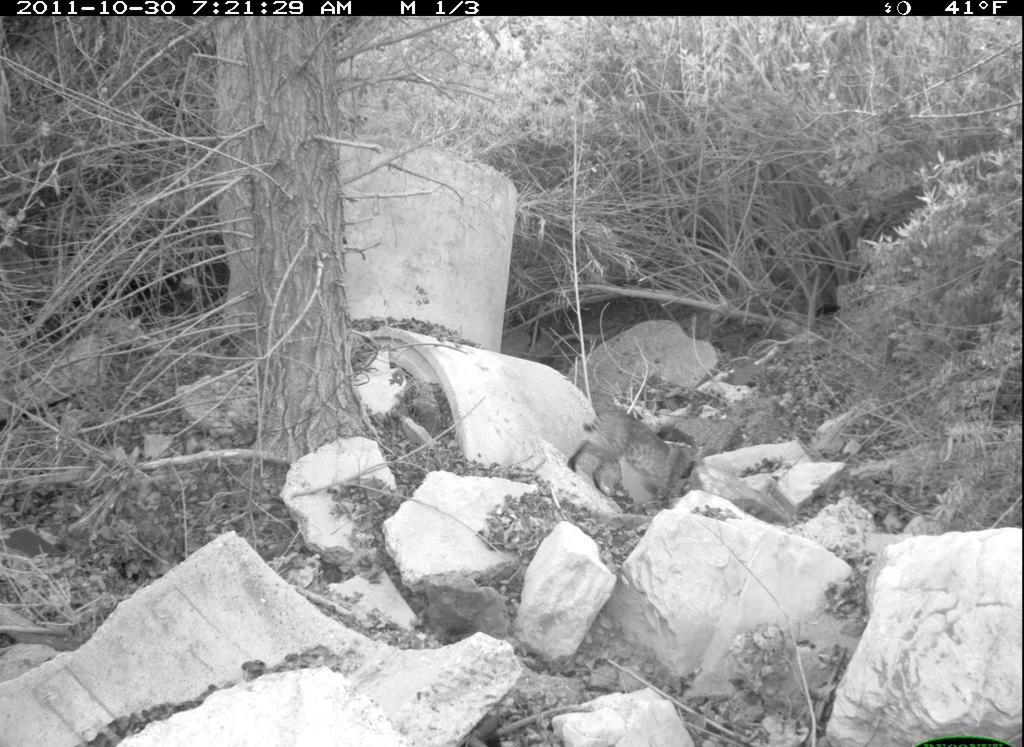bobcat: (568, 396, 711, 524)
